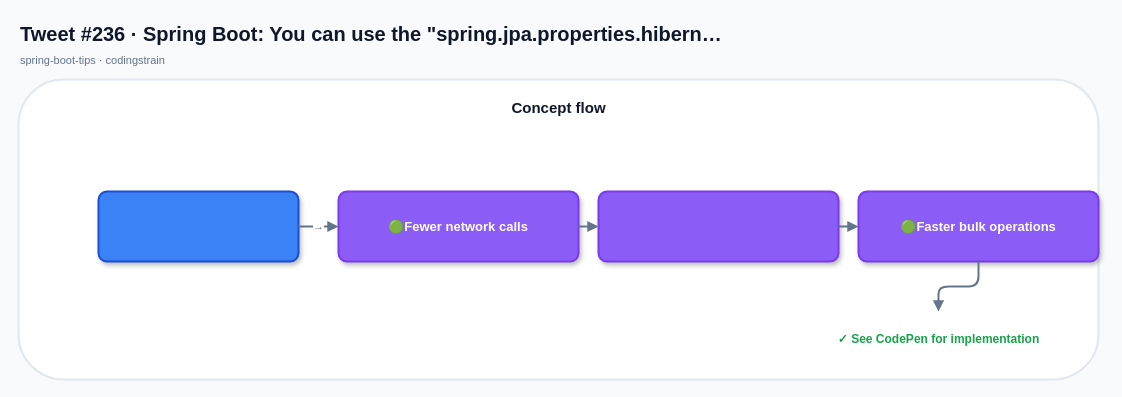
Image size: 1122x397. Some labels were removed from this diagram. Each missing label, with the centre of its shape:
"Problem / context" belongs at point 199,227.
"🟢Less JDBC overhead" belongs at point 719,227.
